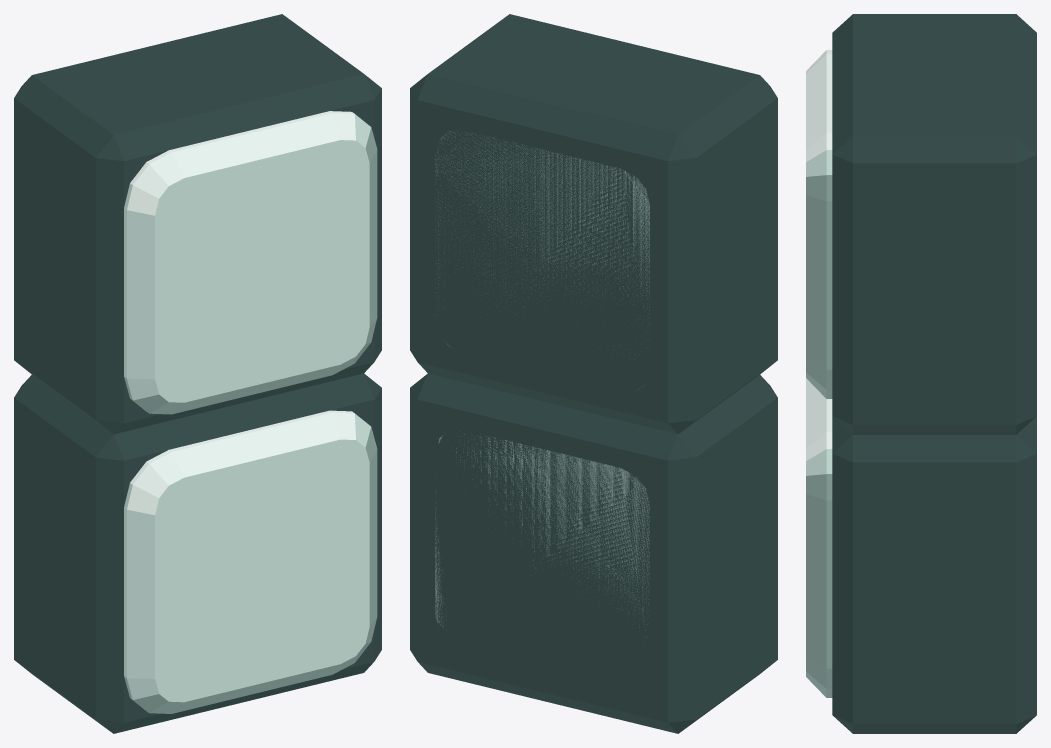
The model's file is Terrain_Block1x2.gltf.
The picture shows the model from 3 angles, left to right: view 1: azimuth 30°, elevation 25°; view 2: azimuth 150°, elevation 25°; view 3: azimuth 270°, elevation 25°; orthographic projection.
Visible parts, largest first — view 1: Terrain_Block1x2_baked; view 2: Terrain_Block1x2_baked; view 3: Terrain_Block1x2_baked.
Boxes of the visible parts, x1,y1,x2,y2 form: Terrain_Block1x2_baked: (14,14,381,733); Terrain_Block1x2_baked: (410,14,777,733); Terrain_Block1x2_baked: (806,14,1036,733).
Size of the model in its own units: 1 by 2 by 0.7.
